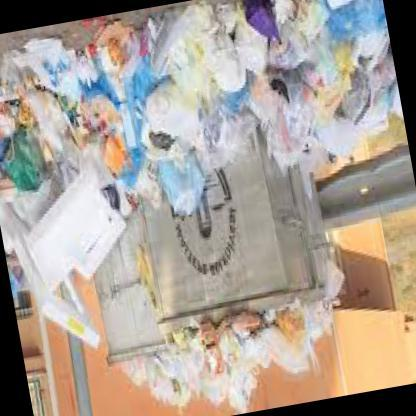Garbage: (0, 0, 275, 236), (242, 0, 408, 173), (123, 310, 349, 415), (0, 27, 98, 151), (145, 23, 240, 146), (257, 58, 334, 160), (255, 295, 339, 382), (82, 12, 152, 113), (254, 0, 322, 88), (319, 0, 393, 77), (319, 38, 384, 118), (197, 327, 241, 403), (138, 353, 194, 412)
